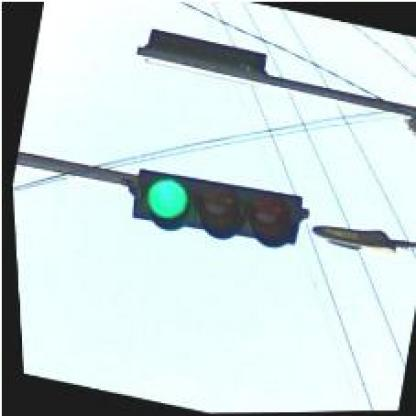green: (124, 156, 309, 258)
